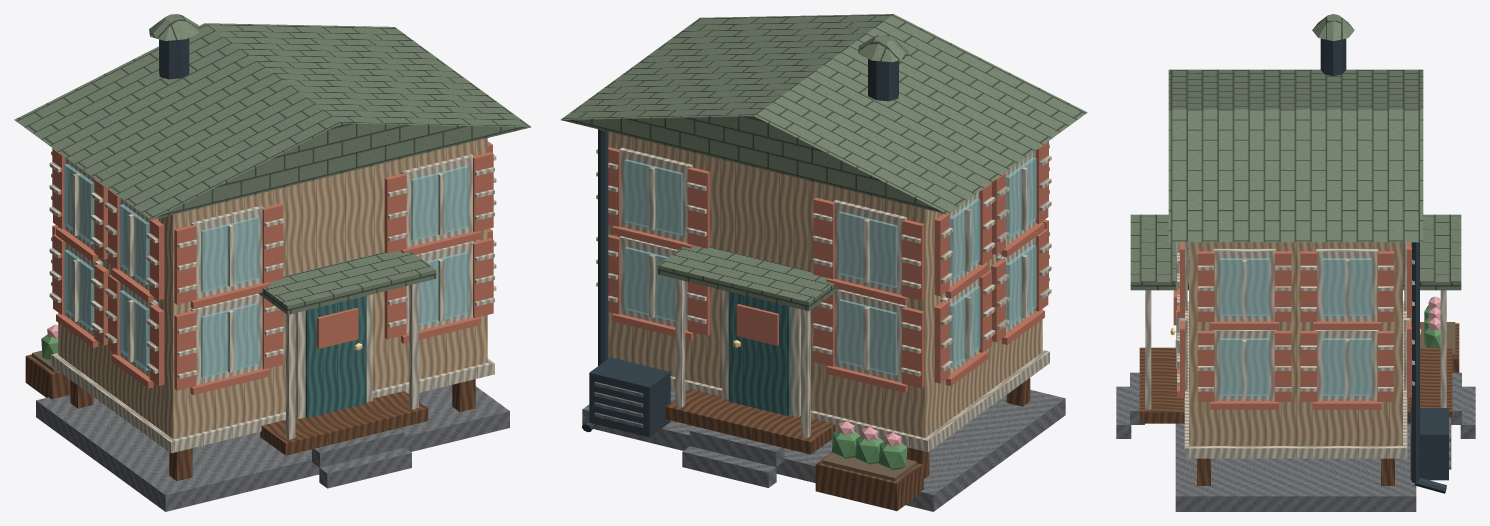
The model's file is house_lv2_b.glb.
3 renders of one model, left to right at view 1: azimuth 30°, elevation 25°; view 2: azimuth 150°, elevation 25°; view 3: azimuth 270°, elevation 25°, orthographic. The views are drawn at different scales.
Parts seen in each view (by area): view 1: gable_roof, walls, foundation, front_porch_canopy, front_door, front_deck, floor_trim, front_window_frame.003, front_window_frame.002, front_window_frame, front_window_frame.001, front_window_glass (+42 smaller); view 2: gable_roof, walls, foundation, back_porch_canopy, back_door, back_deck, back_window_frame.002, back_window_frame.003, back_window_frame, back_ac_unit, back_window_frame.001, floor_trim (+46 smaller); view 3: gable_roof, walls, foundation, right_window_frame.002, right_window_frame.003, right_window_frame, right_window_frame.001, floor_trim, front_porch_canopy, back_porch_canopy, front_deck, right_window_glass.001 (+27 smaller).
Boxes of the visible parts, box(x1,y1,x2,y2) form: gable_roof: box(14, 23, 531, 219); walls: box(58, 138, 487, 439); foundation: box(36, 385, 509, 511); front_porch_canopy: box(258, 250, 436, 314); front_door: box(305, 296, 366, 417); front_deck: box(260, 391, 428, 455); floor_trim: box(51, 353, 494, 453); front_window_frame.003: box(401, 154, 473, 247); front_window_frame.002: box(191, 206, 263, 299); front_window_frame: box(191, 293, 262, 384); front_window_frame.001: box(406, 241, 473, 333); front_window_glass: box(201, 303, 258, 377); gable_roof: box(560, 14, 1087, 214); walls: box(608, 132, 1042, 437); foundation: box(582, 389, 1065, 511); back_porch_canopy: box(657, 245, 838, 311); back_door: box(728, 292, 790, 416); back_deck: box(665, 388, 836, 454); back_window_frame.002: box(833, 200, 907, 295); back_window_frame.003: box(619, 147, 692, 242); back_window_frame: box(834, 289, 907, 382); back_ac_unit: box(589, 357, 670, 437); back_window_frame.001: box(619, 236, 687, 330); floor_trim: box(670, 350, 1049, 452); gable_roof: box(1168, 69, 1423, 242); walls: box(1189, 242, 1402, 445); foundation: box(1175, 340, 1416, 511); right_window_frame.002: box(1213, 248, 1275, 321); right_window_frame.003: box(1316, 248, 1378, 321); right_window_frame: box(1213, 330, 1275, 400); right_window_frame.001: box(1316, 330, 1378, 400); floor_trim: box(1184, 301, 1407, 458); front_porch_canopy: box(1130, 214, 1188, 290); back_porch_canopy: box(1403, 214, 1461, 290); front_deck: box(1139, 347, 1184, 423); right_window_glass.001: box(1322, 338, 1371, 395).
Size of the model in its own units: 3.3 by 3.39 by 2.9.
Materials: 13 (7 with a texture image).
